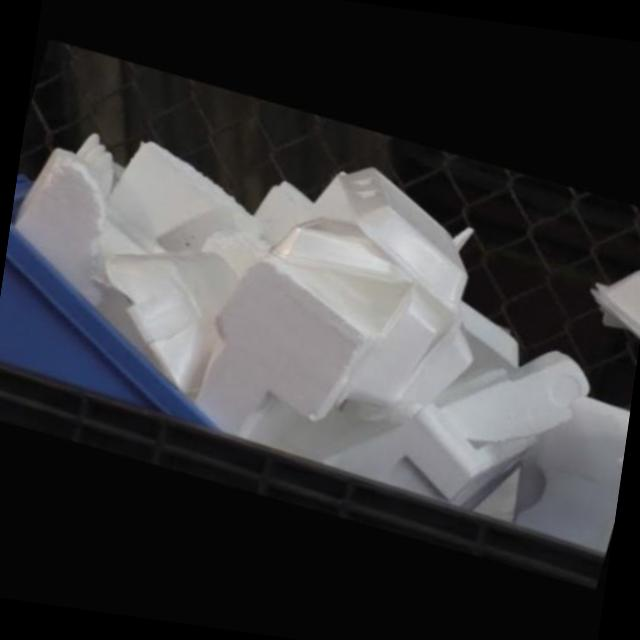xop: (12, 135, 168, 384), (188, 259, 370, 439), (329, 169, 466, 318), (319, 408, 533, 503), (99, 252, 235, 395), (508, 400, 629, 559), (105, 143, 263, 254), (423, 354, 585, 445), (332, 286, 442, 411), (367, 318, 471, 429), (267, 219, 407, 286), (430, 303, 514, 410), (249, 173, 352, 247), (585, 273, 640, 346)
